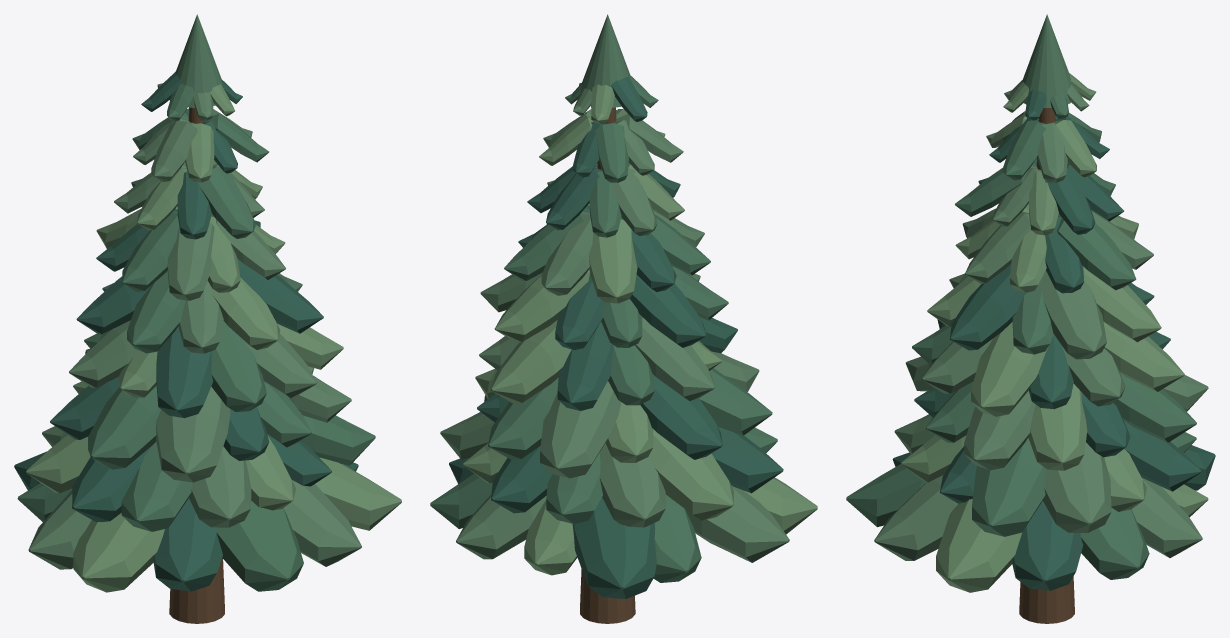
The model's file is pine_tree.glb.
3 views of the same model, side by side, from view 1: azimuth 30°, elevation 25°; view 2: azimuth 150°, elevation 25°; view 3: azimuth 270°, elevation 25° (orthographic).
Visible parts, largest first — view 1: PineTree; view 2: PineTree; view 3: PineTree.
Boxes of the visible parts, x1,y1,x2,y2 form: PineTree: (14,14,401,623); PineTree: (430,14,817,623); PineTree: (846,14,1215,623).
Bounding box in the file's own units: 0.584 × 1 × 0.5595.
